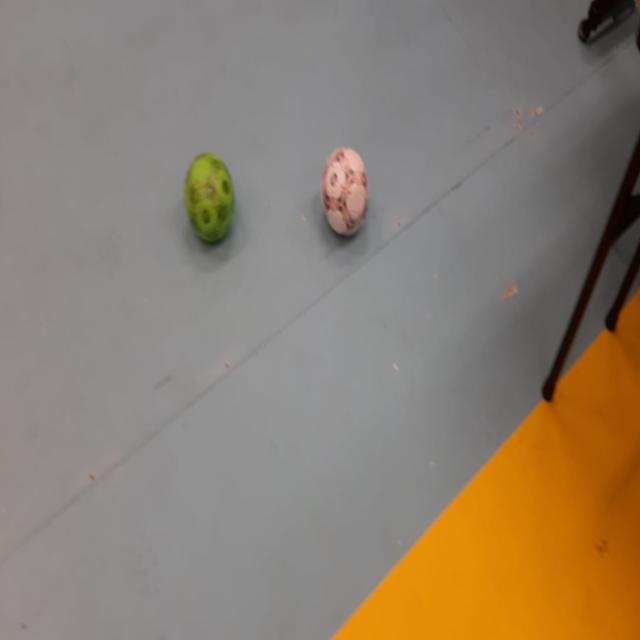ball: (187, 152, 234, 248), (321, 148, 369, 240)
